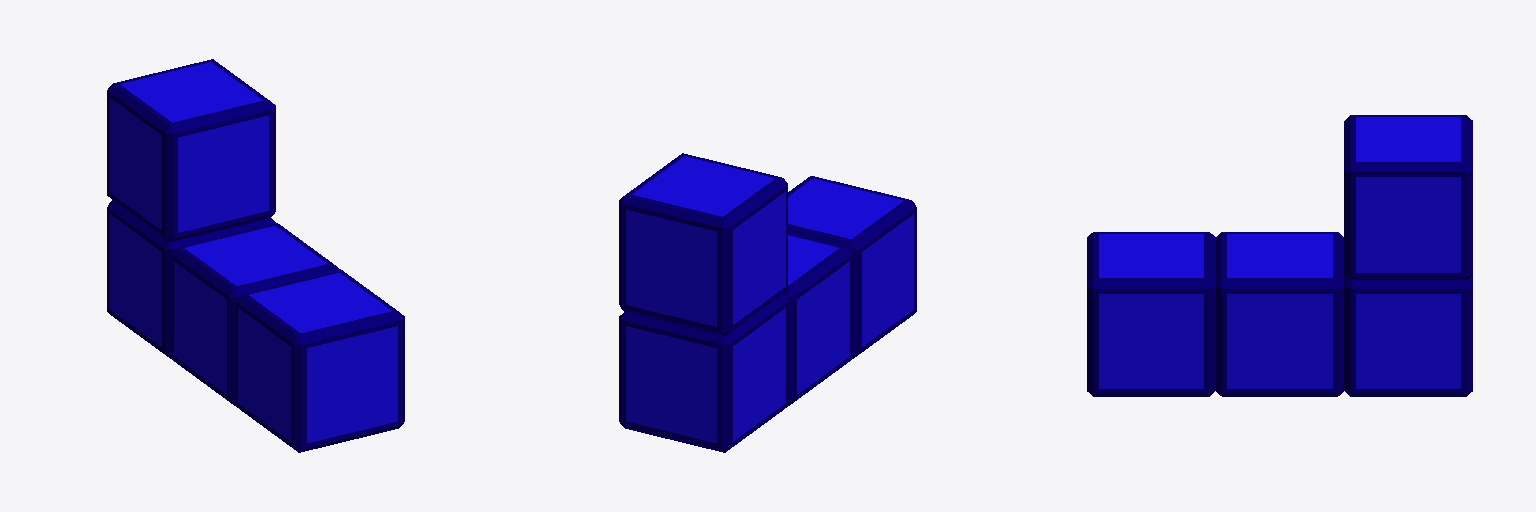
File: fig6_color.obj
3 views of the same model, side by side, from view 1: azimuth 30°, elevation 25°; view 2: azimuth 150°, elevation 25°; view 3: azimuth 270°, elevation 25° (orthographic).
Visible parts, largest first — view 1: Cube, Cube.003, Cube.001, Cube.002; view 2: Cube.003, Cube.002, Cube, Cube.001; view 3: Cube, Cube.003, Cube.001, Cube.002.
Part boxes in pixels (left/top/right/bottom): Cube: left=236, top=270, right=404, bottom=452; Cube.003: left=107, top=59, right=275, bottom=241; Cube.001: left=171, top=223, right=340, bottom=405; Cube.002: left=107, top=200, right=275, bottom=358; Cube.003: left=619, top=153, right=787, bottom=335; Cube.002: left=619, top=294, right=787, bottom=452; Cube: left=788, top=176, right=916, bottom=358; Cube.001: left=783, top=233, right=852, bottom=405; Cube: left=1087, top=232, right=1215, bottom=396; Cube.003: left=1344, top=115, right=1472, bottom=279; Cube.001: left=1216, top=232, right=1343, bottom=396; Cube.002: left=1344, top=275, right=1472, bottom=396.
Bounding box in the file's own units: 2 × 4 × 6.